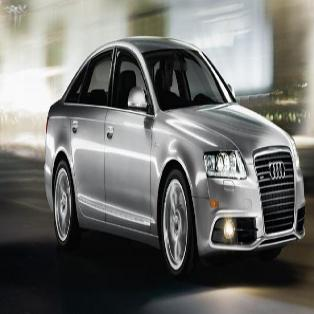Auto: (42, 34, 306, 278)
